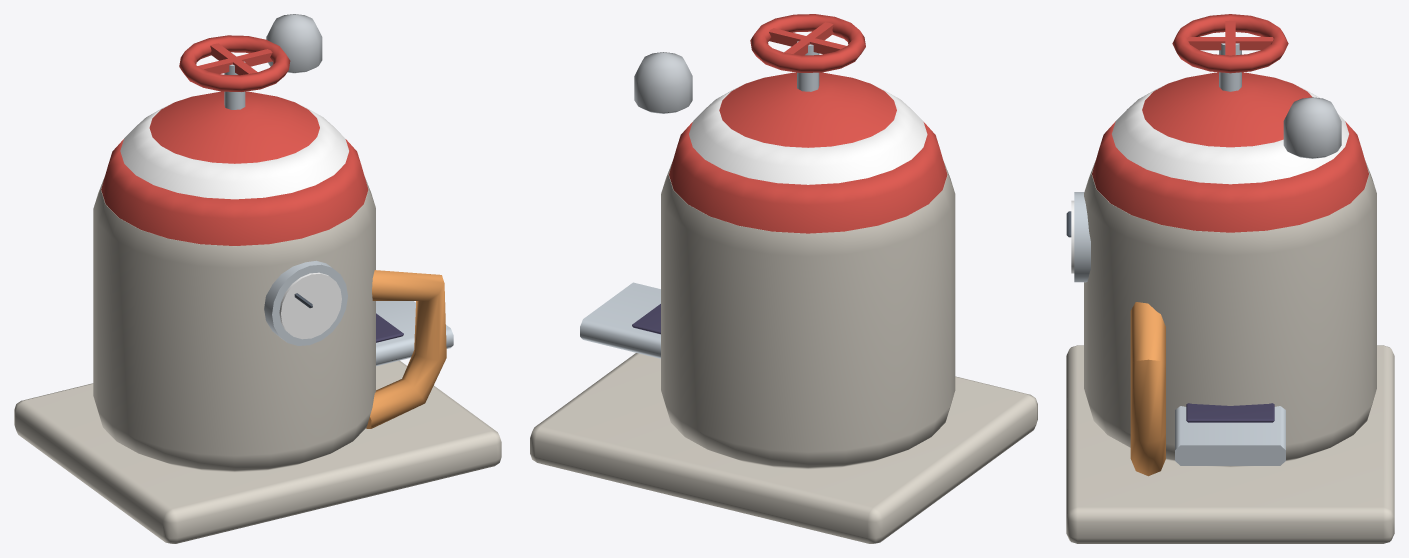
Rendered from machine_tank.glb.
3 renders of one model, left to right at view 1: azimuth 30°, elevation 25°; view 2: azimuth 150°, elevation 25°; view 3: azimuth 270°, elevation 25°, orthographic. The views are drawn at different scales.
Parts seen in each view (by area): view 1: machine_tank_structure, spin, lamp; view 2: machine_tank_structure, spin, lamp; view 3: machine_tank_structure, spin, lamp.
Part boxes in pixels (box(x1,y1,x2,y2)): machine_tank_structure: box(14, 91, 501, 543); spin: box(179, 35, 290, 109); lamp: box(266, 14, 322, 73); machine_tank_structure: box(530, 72, 1037, 543); spin: box(750, 14, 865, 91); lamp: box(634, 52, 692, 113); machine_tank_structure: box(1066, 72, 1394, 543); spin: box(1172, 14, 1288, 91); lamp: box(1283, 97, 1341, 158).
Size of the model in its own units: 3.2 by 3.62 by 2.6.
